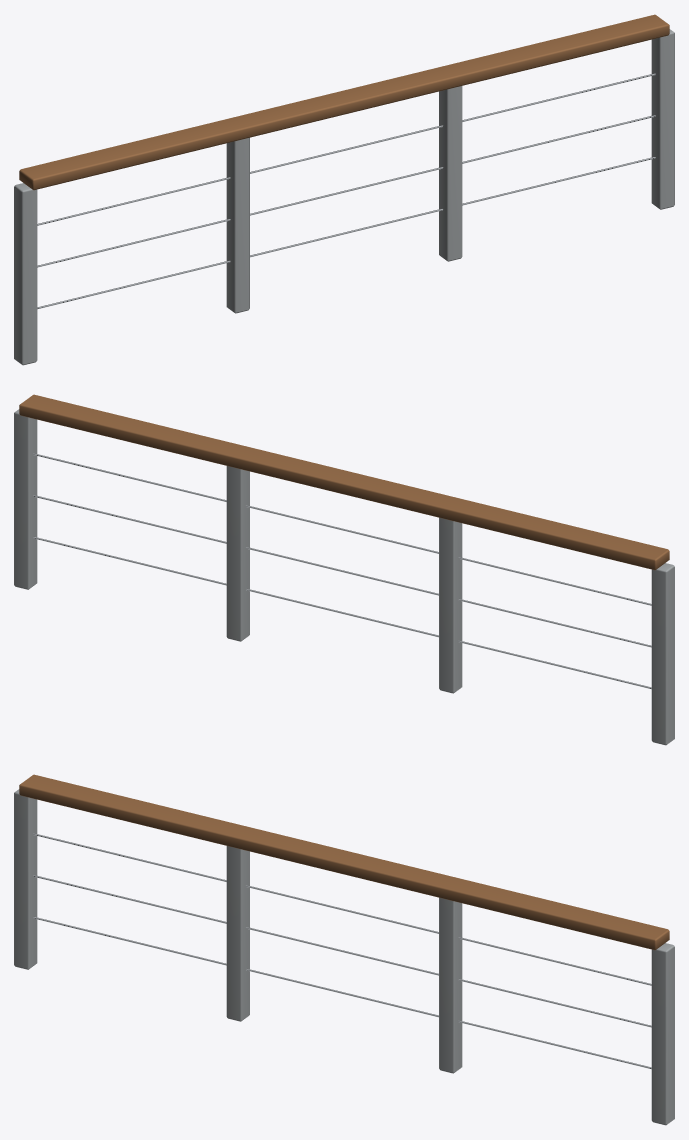
Rendered from RiverRailMIA.fbx.
3 renders of one model, top to bottom at view 1: azimuth 30°, elevation 25°; view 2: azimuth 150°, elevation 25°; view 3: azimuth 330°, elevation 25°, orthographic.
Visible parts, largest first — view 1: RiverRailMIA; view 2: RiverRailMIA; view 3: RiverRailMIA.
Boxes of the visible parts, x1,y1,x2,y2 form: RiverRailMIA: (14, 14, 674, 365); RiverRailMIA: (14, 394, 674, 745); RiverRailMIA: (14, 774, 674, 1125).
Bounding box in the file's own units: 4.1 × 1.12 × 0.16.
